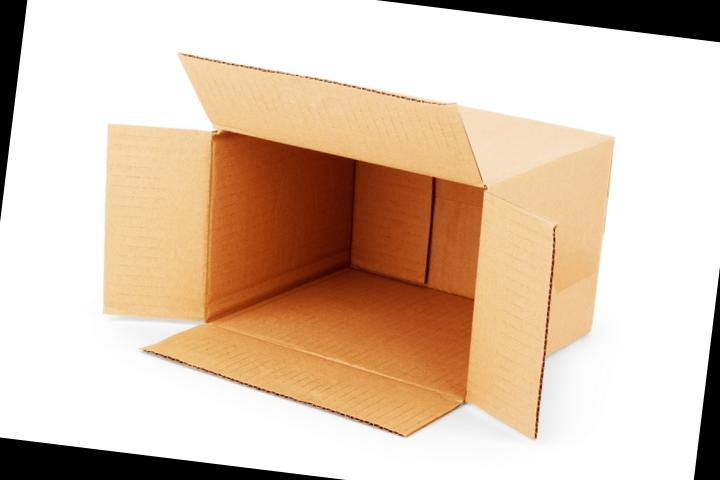cardboard: (18, 8, 641, 480)
